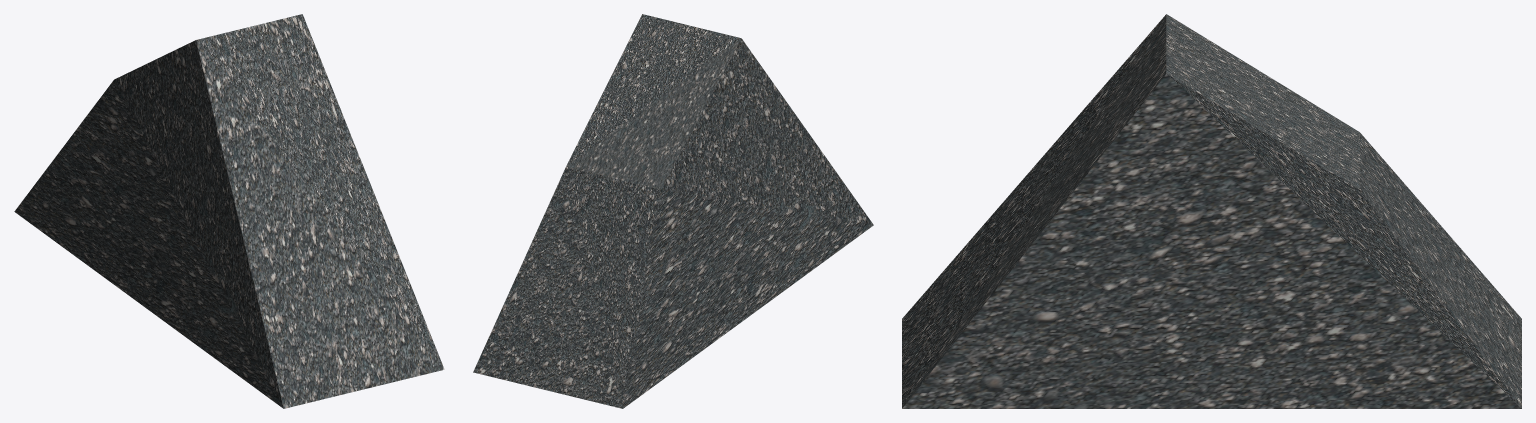
Rendered from Strada.glb.
3 renders of one model, left to right at view 1: azimuth 30°, elevation 25°; view 2: azimuth 150°, elevation 25°; view 3: azimuth 270°, elevation 25°, orthographic. The views are drawn at different scales.
Visible parts, largest first — view 1: Cube; view 2: Cube; view 3: Cube.
Part boxes in pixels (x1,y1,x2,y2): Cube: (14, 14, 444, 408); Cube: (473, 14, 873, 408); Cube: (902, 14, 1521, 408).
Bounding box in the file's own units: 8.85 × 14.63 × 25.68.
Materials: 1 (1 with a texture image).
